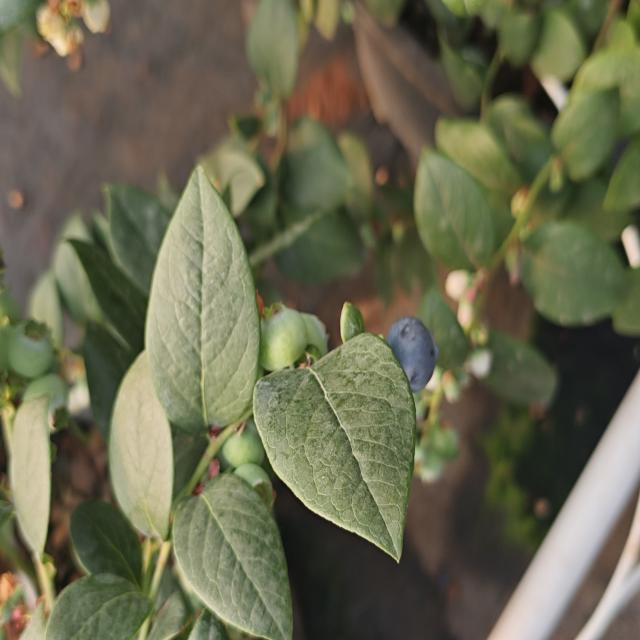ripe: (374, 303, 448, 400)
